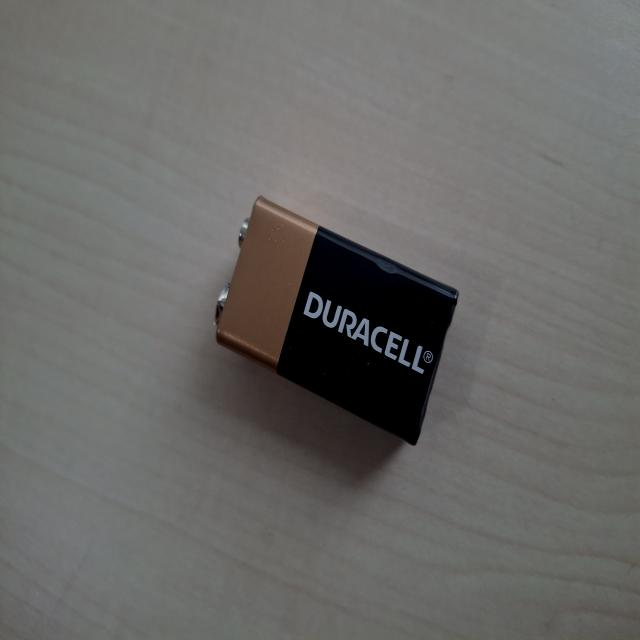9V: (144, 286, 334, 608)
